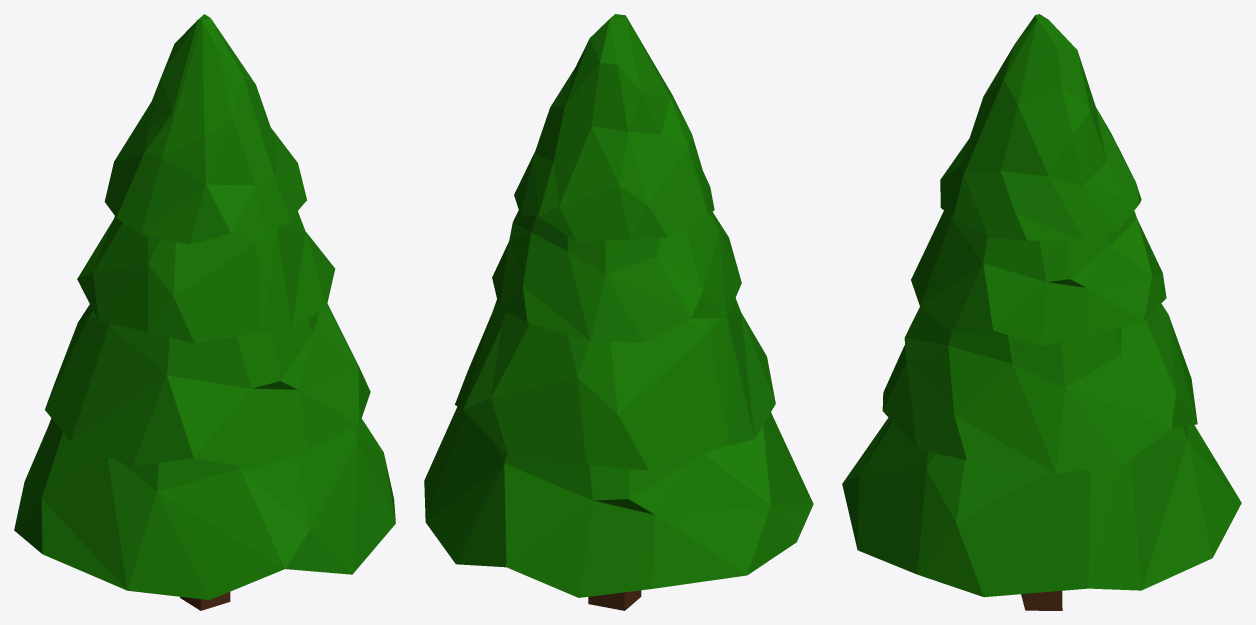
The model's file is arvore3.fbx.
3 renders of one model, left to right at view 1: azimuth 30°, elevation 25°; view 2: azimuth 150°, elevation 25°; view 3: azimuth 270°, elevation 25°, orthographic.
Visible parts, largest first — view 1: Cube; view 2: Cube; view 3: Cube.
Part boxes in pixels (x1,y1,x2,y2): Cube: [14, 14, 395, 610]; Cube: [424, 14, 813, 610]; Cube: [842, 14, 1241, 610].
Size of the model in its own units: 1159 by 1902 by 1179.
